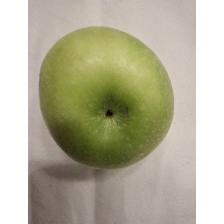Apfel: (38, 24, 176, 172)
